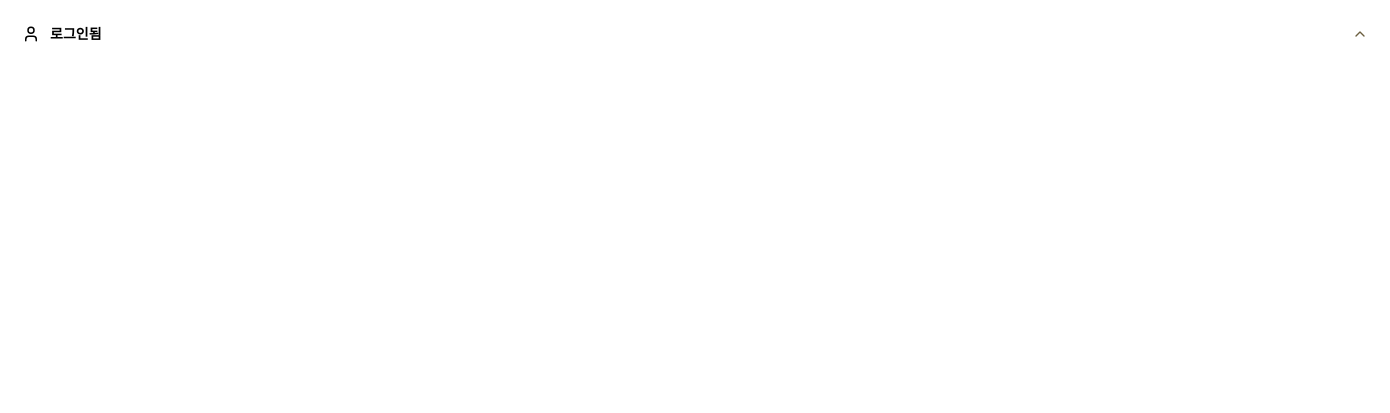
Scenario: 계정 메뉴 팝오버 › 버튼은 aria-haspopup·aria-expanded를 갖고, 열면 첫 항목에 초점이 가며 Esc로 닫히고 초점이 버튼으로 돌아온다
The width and height of the screenshot is (1390, 413).
Click the button with test id "account-menu-button" at {"x": 76, "y": 34}, box [12,12,1378,56]
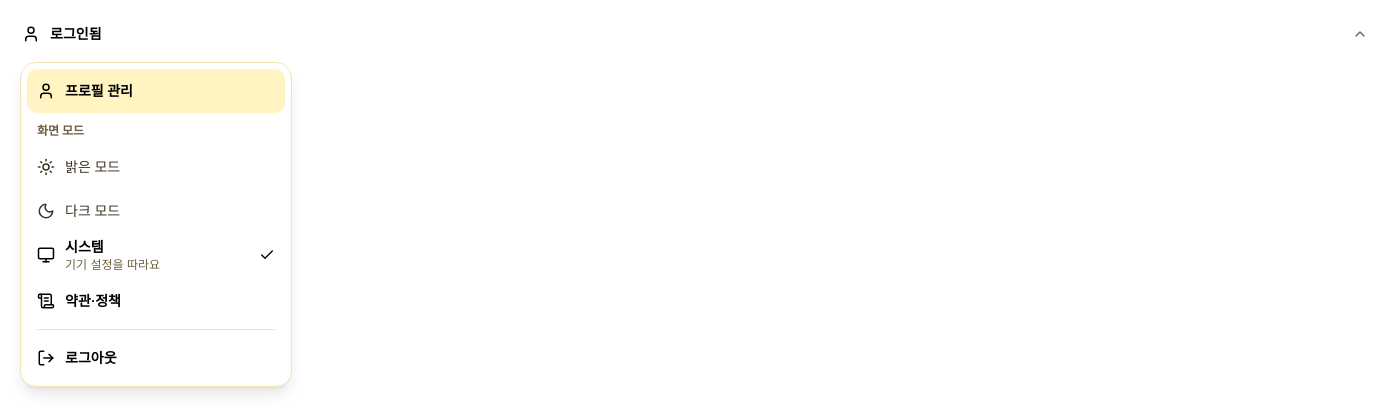
Press Escape
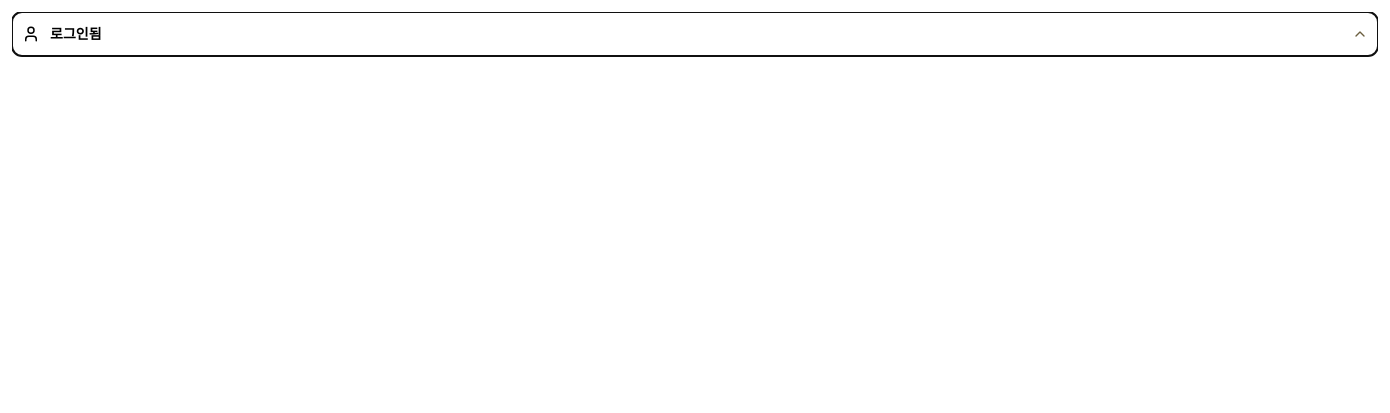
Result: the menu with test id "account-menu" is gone
